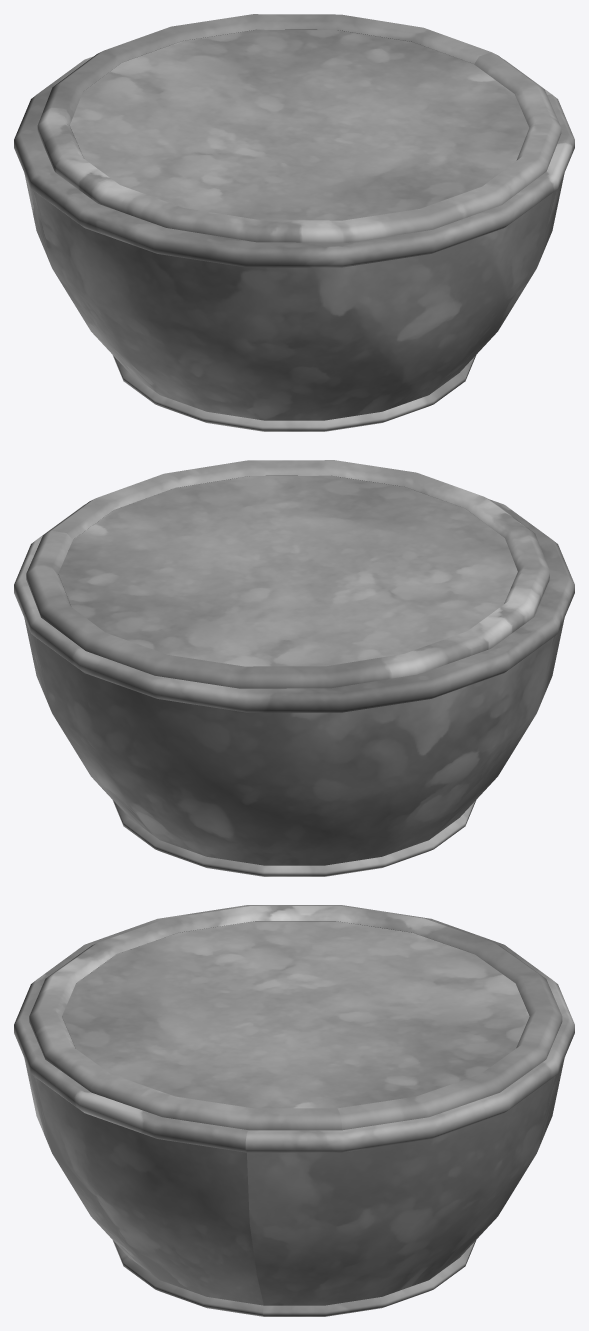
File: SM_WickerBasket_01b.fbx
3 renders of one model, top to bottom at view 1: azimuth 30°, elevation 25°; view 2: azimuth 150°, elevation 25°; view 3: azimuth 270°, elevation 25°, orthographic.
Visible parts, largest first — view 1: SM_WickerBasket_01b_LOD0; view 2: SM_WickerBasket_01b_LOD0; view 3: SM_WickerBasket_01b_LOD0.
Part boxes in pixels (<box>): SM_WickerBasket_01b_LOD0: <box>14,14,574,431</box>; SM_WickerBasket_01b_LOD0: <box>14,460,574,876</box>; SM_WickerBasket_01b_LOD0: <box>14,905,574,1316</box>.
Size of the model in its own units: 56.64 by 57.52 by 26.71.
